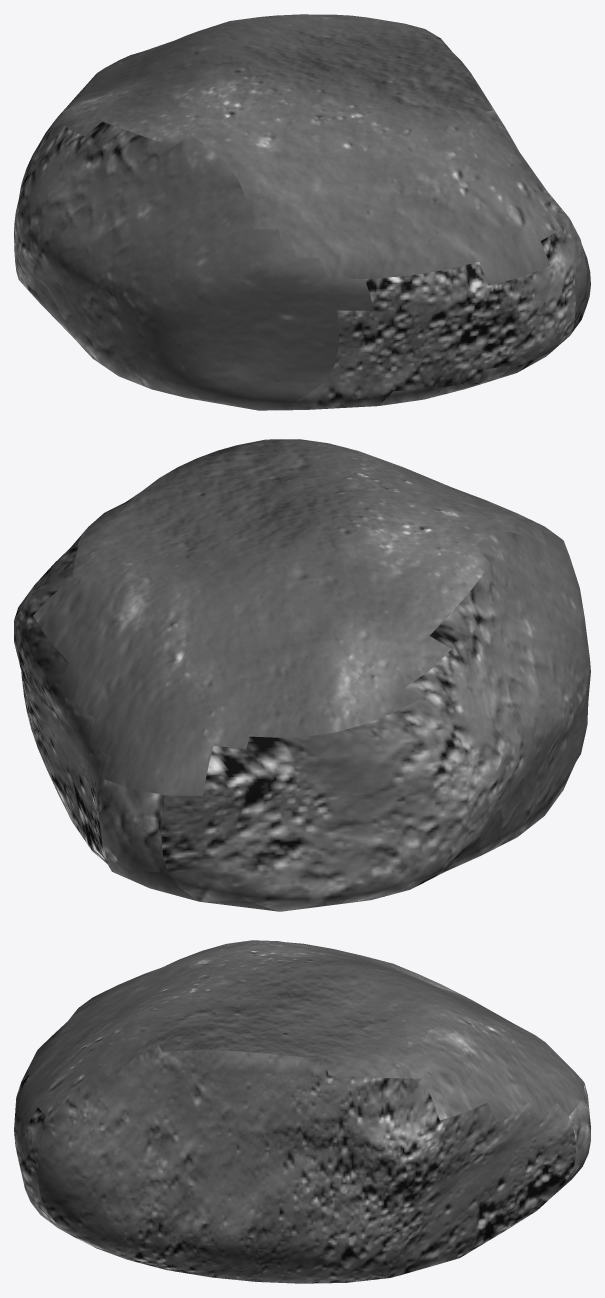
Rendered from Rock8.obj.
3 renders of one model, top to bottom at view 1: azimuth 30°, elevation 25°; view 2: azimuth 150°, elevation 25°; view 3: azimuth 270°, elevation 25°, orthographic. The views are drawn at different scales.
Visible parts, largest first — view 1: Rocks5; view 2: Rocks5; view 3: Rocks5.
Part boxes in pixels (<box>): Rocks5: <box>14,14,590,410</box>; Rocks5: <box>14,439,590,911</box>; Rocks5: <box>14,940,590,1283</box>.
Size of the model in its own units: 0.9124 by 0.5431 by 1.15.
1 material, 1 textured.
